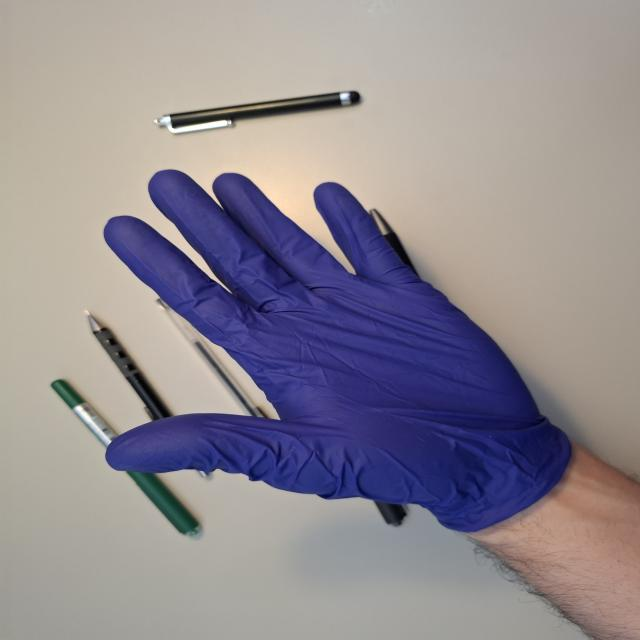glove_on: (100, 166, 576, 533)
